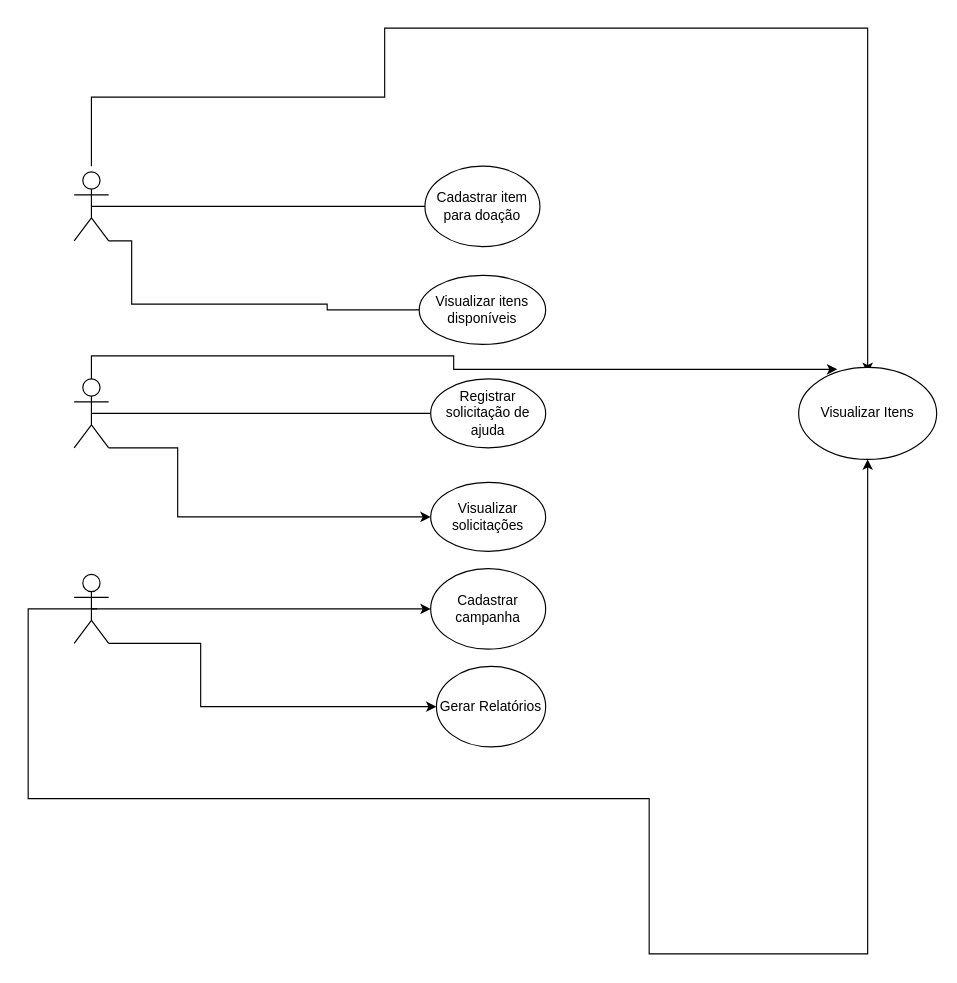
This 957x983 diagram has some shape labels left out. The shapes that lost their labels are listed below. From the top down, each one's centre as x and y in pixels, then its label:
[91,206]: Doador
[91,413]: Beneficiário
[91,608]: Organização Social
